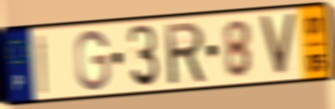3: (125, 23, 161, 90)
8: (221, 17, 254, 81)
G: (73, 28, 112, 93)
I: (35, 32, 49, 97)
R: (163, 19, 208, 88)
V: (257, 13, 298, 79)
